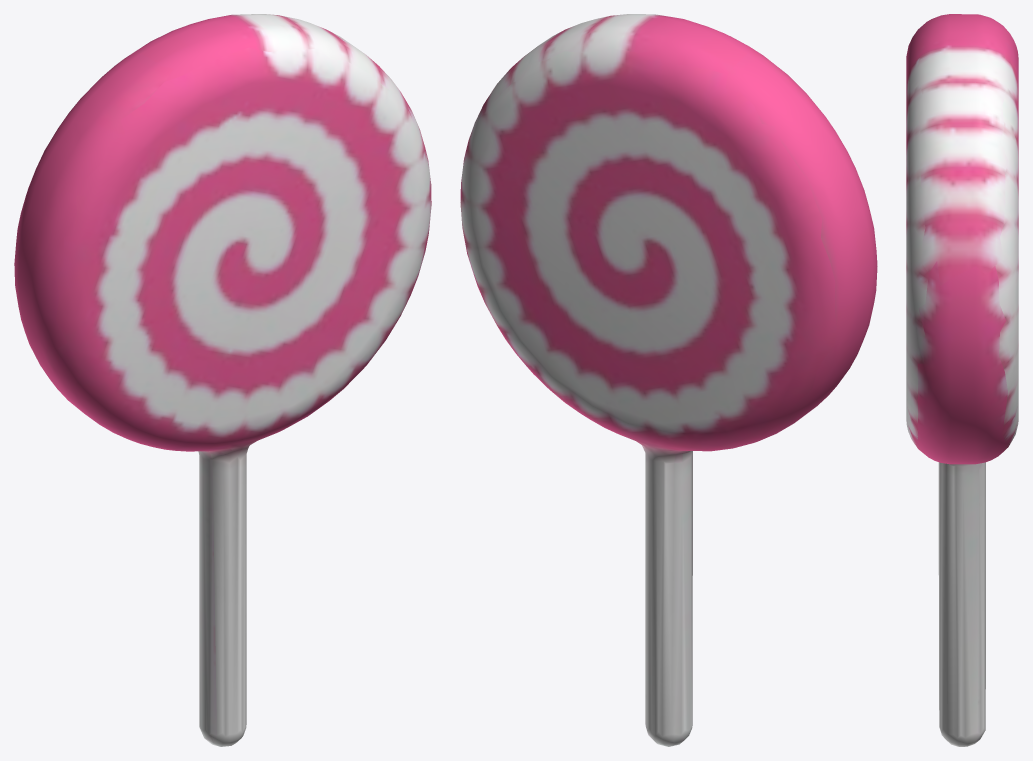
The model's file is item.lolly.glb.
3 renders of one model, left to right at view 1: azimuth 30°, elevation 25°; view 2: azimuth 150°, elevation 25°; view 3: azimuth 270°, elevation 25°, orthographic.
Visible parts, largest first — view 1: lolly; view 2: lolly; view 3: lolly.
Boxes of the visible parts, box(x1,y1,x2,y2) form: lolly: box(14, 14, 431, 746); lolly: box(460, 14, 877, 746); lolly: box(906, 14, 1018, 746).
Size of the model in its own units: 0.48 by 0.8349 by 0.12.
Materials: 1 (1 with a texture image).
